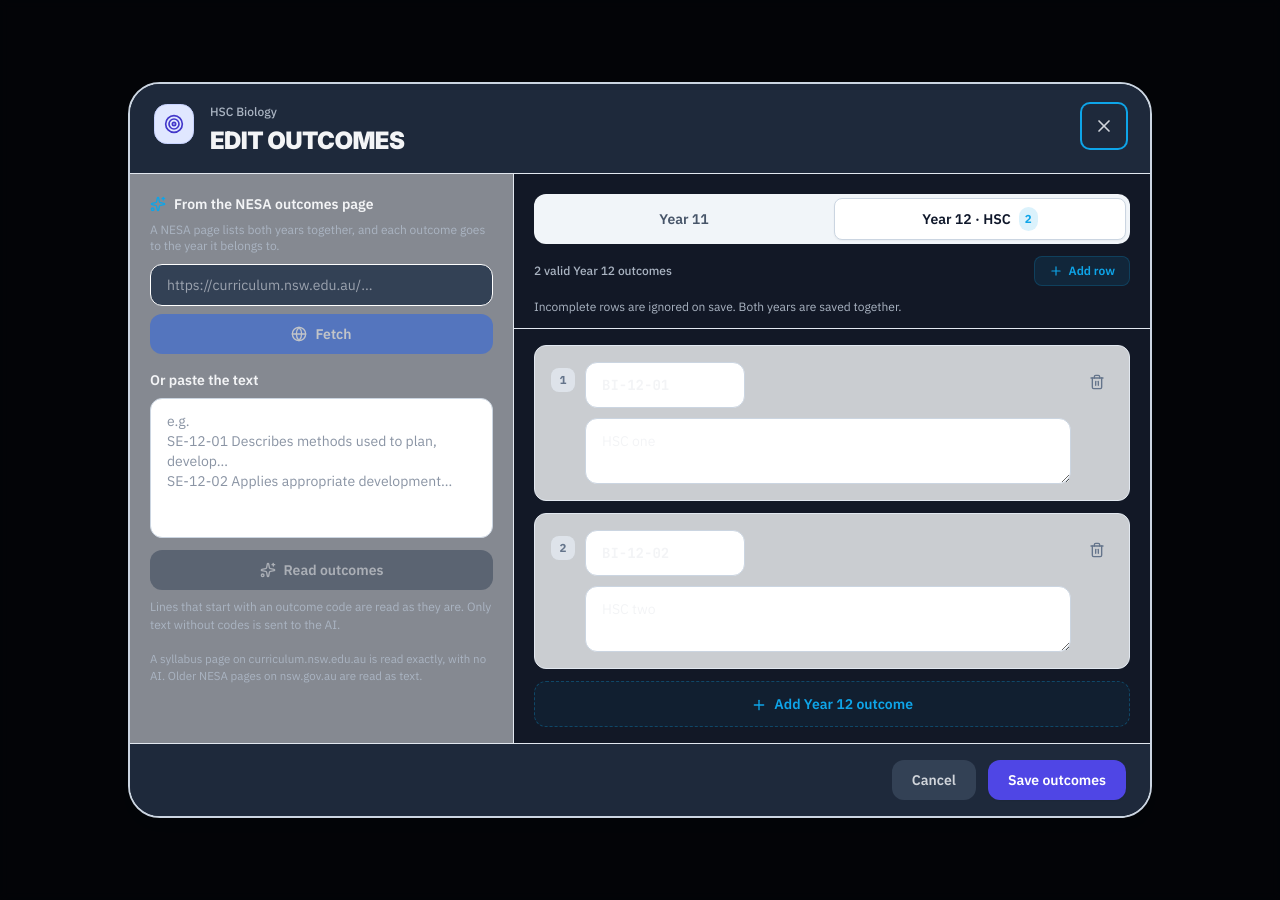
Scenario: editing both years of outcomes › shows the page reader’s own reason rather than a generic failure
Type "https://example.com" into the field named "Outcomes page URL". click: (322, 285)
box: [150,264,493,306]
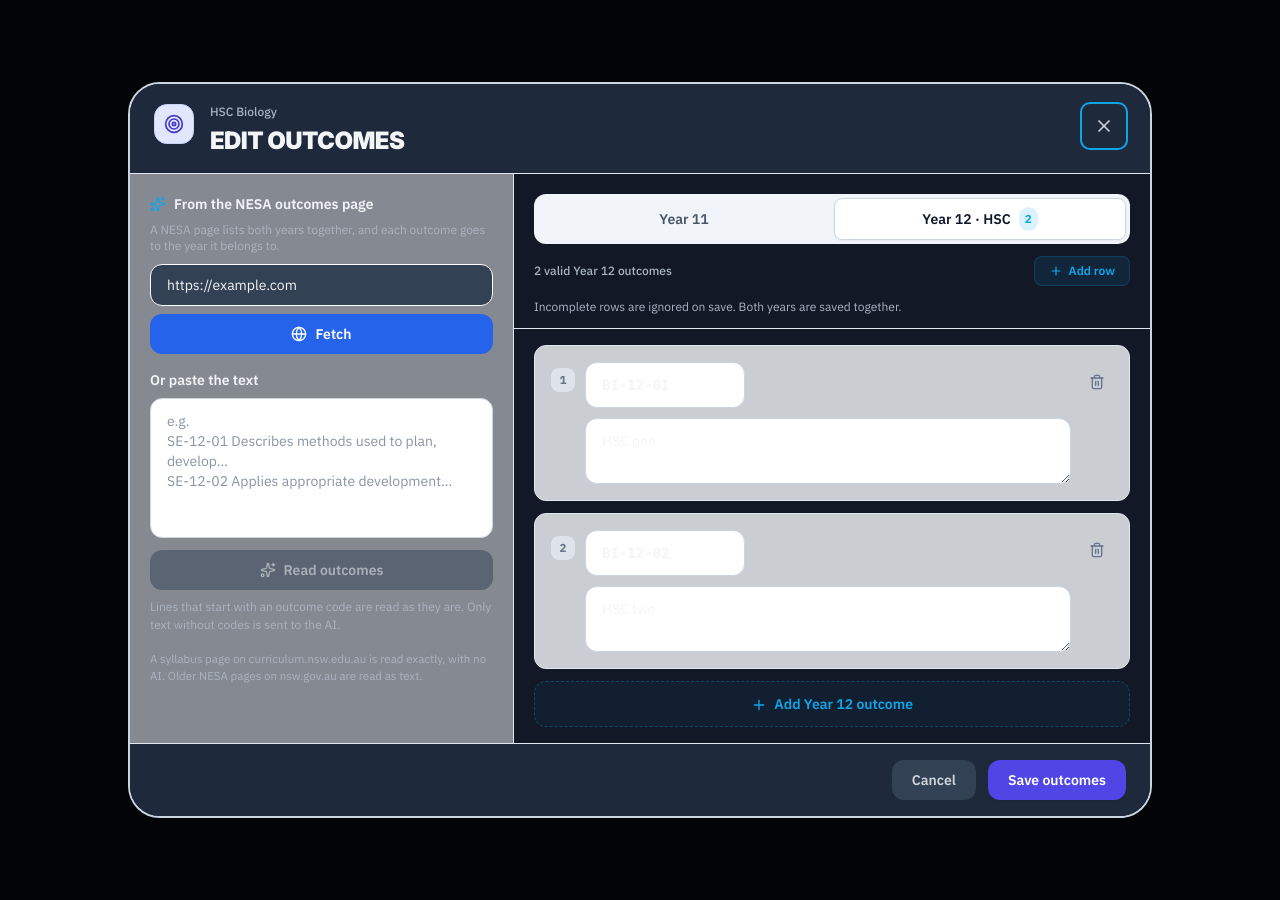
Click the button "Fetch". click: (322, 334)
box: [150,314,493,354]
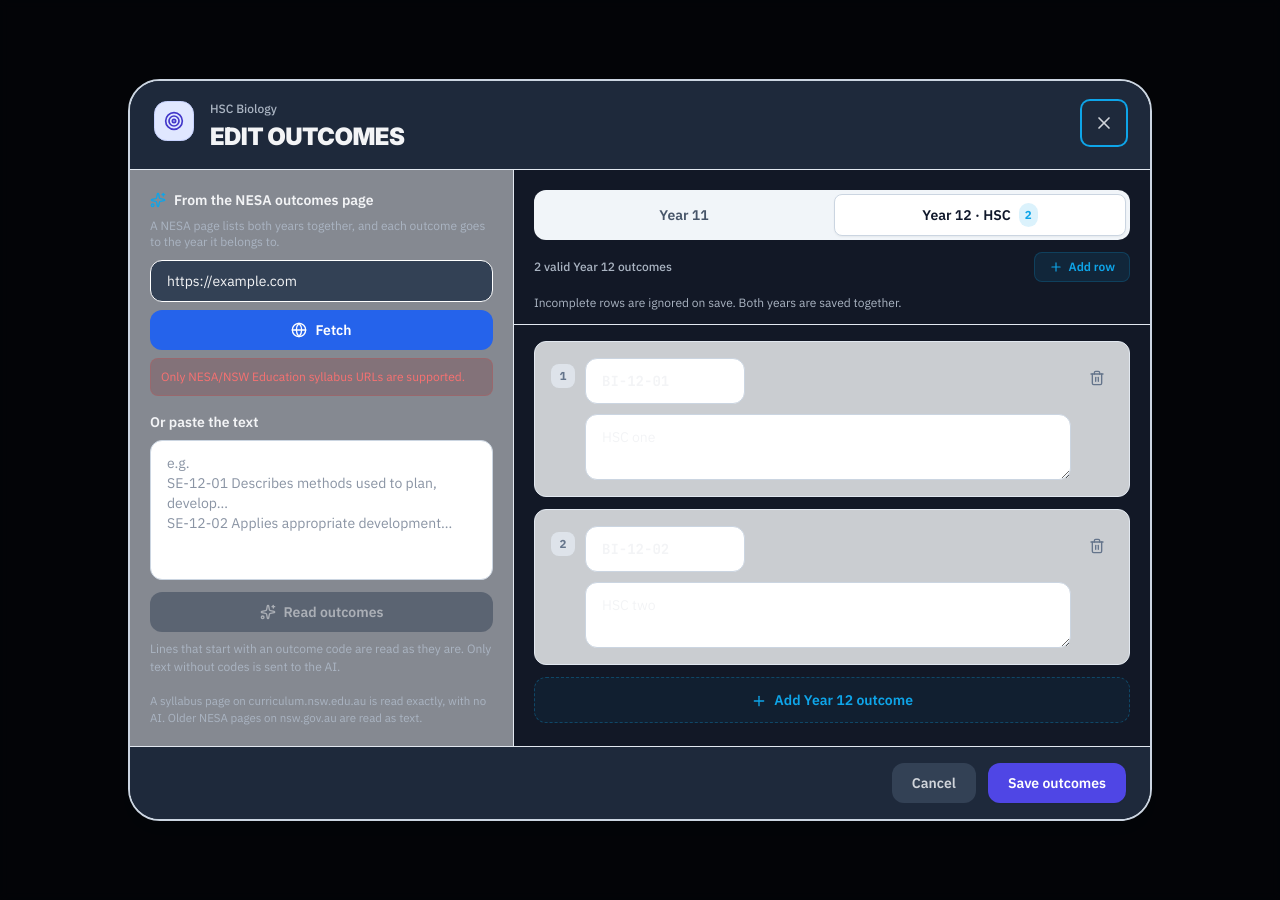
Now the text "Only NESA/NSW Education syllabus URLs are supported." is shown, box [150,358,493,396]
